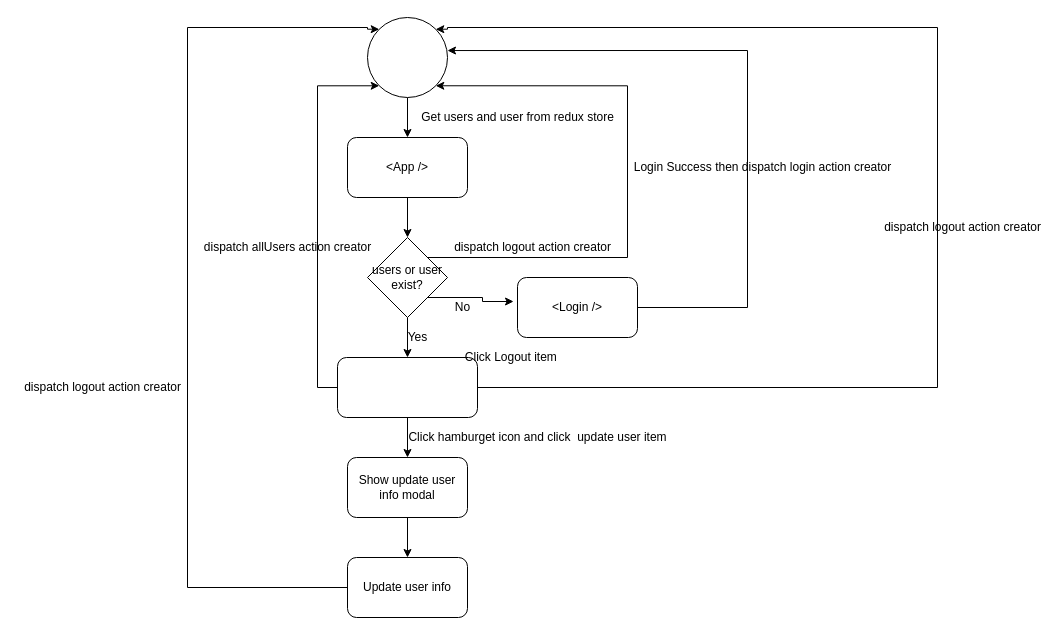
The diagram is 1064 pixels wide and 635 high, and some of its shapes have lost their labels. The centre of each missing label's shape, as x and y in pixels:
<Main />: point 407,387
Redux: point 407,57
